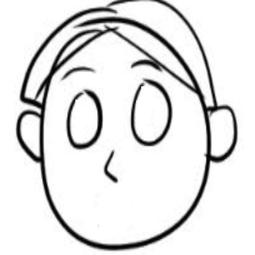ear: (205, 99, 239, 167), (12, 108, 46, 163)
empty_eye: (128, 76, 174, 149), (62, 89, 105, 151)
eyebrow: (61, 65, 95, 80), (128, 58, 162, 72)
pointy_nose: (102, 147, 120, 190)
